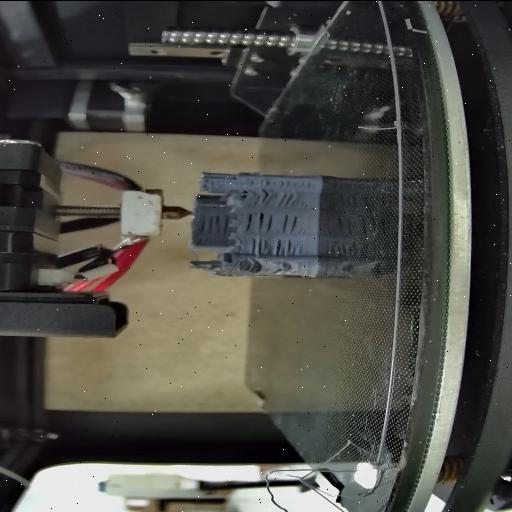cracks: (198, 213, 230, 237), (252, 178, 316, 188), (246, 212, 272, 234), (250, 187, 274, 208), (282, 212, 306, 233), (276, 238, 300, 256), (280, 190, 302, 208), (250, 236, 268, 254), (245, 262, 258, 274), (274, 267, 285, 276), (226, 175, 240, 180)
